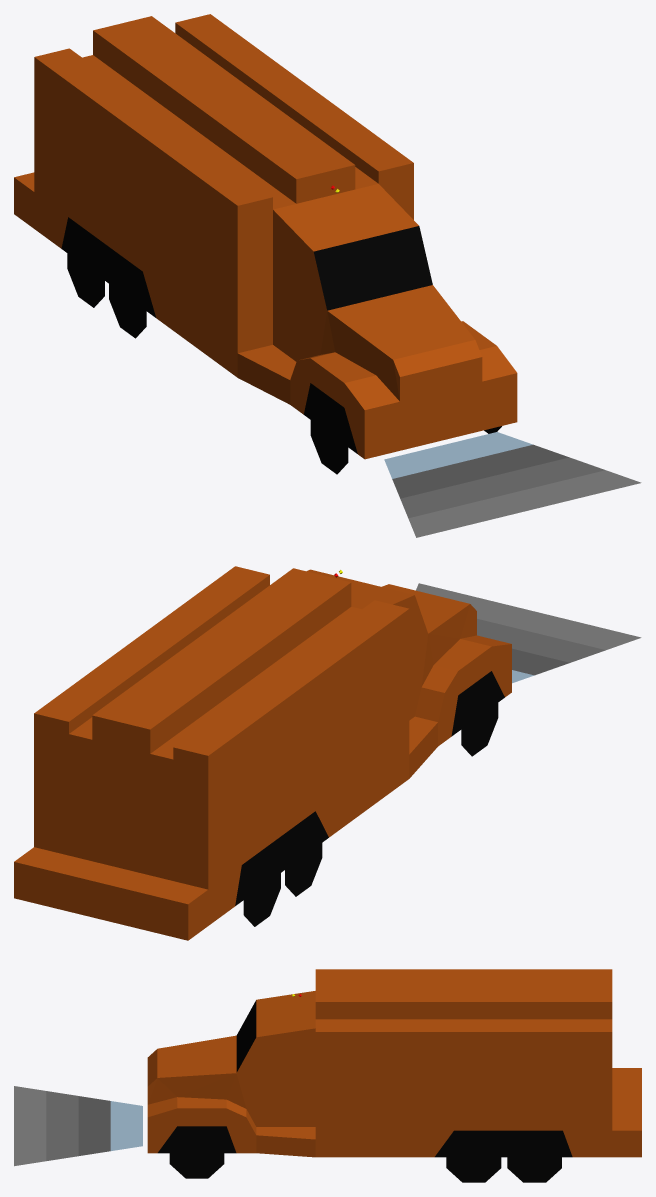
The model's file is CARFIRET.glb.
3 renders of one model, top to bottom at view 1: azimuth 30°, elevation 25°; view 2: azimuth 150°, elevation 25°; view 3: azimuth 270°, elevation 25°, orthographic. The views are drawn at different scales.
Visible parts, largest first — view 1: CARFIRET | archived geometry; view 2: CARFIRET | archived geometry; view 3: CARFIRET | archived geometry.
Part boxes in pixels (x1=…): CARFIRET | archived geometry: x1=14, y1=14, x2=641, y2=537; CARFIRET | archived geometry: x1=14, y1=566, x2=641, y2=940; CARFIRET | archived geometry: x1=14, y1=969, x2=641, y2=1182.
Bounding box in the file's own units: 3.33 × 3.08 × 10.99.
